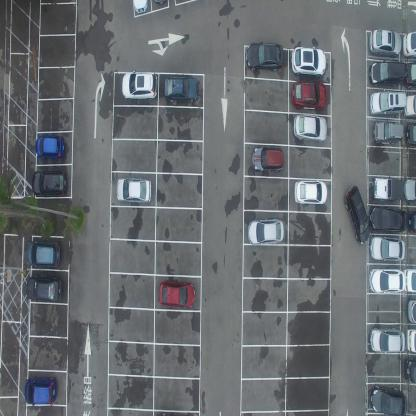car: (343, 183, 370, 243), (291, 45, 327, 80), (244, 41, 284, 72), (370, 383, 407, 415), (291, 80, 327, 110), (163, 74, 198, 104), (159, 278, 195, 307), (116, 175, 152, 204), (122, 70, 158, 99), (246, 218, 284, 245), (23, 376, 57, 406), (294, 178, 328, 208), (370, 325, 406, 353), (370, 205, 407, 232), (368, 60, 405, 87), (368, 27, 402, 56), (27, 276, 63, 303), (251, 144, 284, 173), (30, 170, 66, 196), (369, 90, 406, 115), (26, 241, 61, 267), (292, 108, 324, 136), (371, 174, 404, 199), (35, 134, 64, 160), (372, 122, 404, 144), (402, 30, 416, 58), (403, 266, 416, 295), (404, 59, 416, 89), (403, 176, 416, 203), (404, 356, 416, 384), (405, 120, 416, 147), (403, 94, 416, 116), (406, 327, 416, 354), (406, 210, 416, 236), (406, 299, 416, 325), (132, 0, 148, 15)
